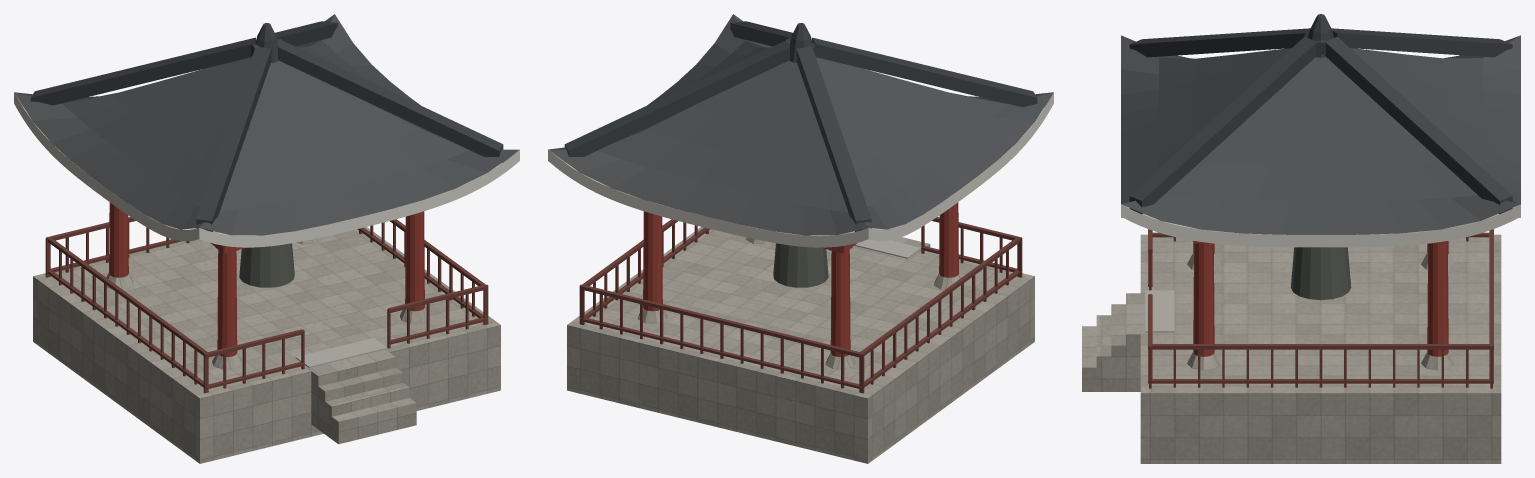
3 renders of one model, left to right at view 1: azimuth 30°, elevation 25°; view 2: azimuth 150°, elevation 25°; view 3: azimuth 270°, elevation 25°, orthographic. The views are drawn at different scales.
Visible parts, largest first — view 1: bell__granite_base, bell__roof_tile, bell__ridge_dark, bell__rail_dark, bell__rafter_paint, bell__column_red, bell__bell_bronze, bell__entrance_threshold; view 2: bell__granite_base, bell__roof_tile, bell__ridge_dark, bell__rail_dark, bell__rafter_paint, bell__column_red, bell__bell_bronze, bell__entrance_threshold; view 3: bell__granite_base, bell__roof_tile, bell__ridge_dark, bell__rail_dark, bell__rafter_paint, bell__column_red, bell__bell_bronze, bell__entrance_threshold.
Boxes of the visible parts, x1,y1,x2,y2 form: bell__granite_base: (33, 227, 500, 463); bell__roof_tile: (14, 14, 518, 235); bell__ridge_dark: (30, 21, 503, 231); bell__rail_dark: (45, 217, 488, 393); bell__rafter_paint: (14, 92, 519, 247); bell__column_red: (109, 202, 424, 356); bell__bell_bronze: (239, 243, 294, 287); bell__entrance_threshold: (295, 338, 387, 367); bell__granite_base: (567, 227, 1034, 463); bell__roof_tile: (548, 14, 1053, 235); bell__ridge_dark: (564, 21, 1037, 231); bell__rail_dark: (579, 217, 1022, 393); bell__rafter_paint: (548, 92, 1053, 247); bell__column_red: (643, 202, 958, 356); bell__bell_bronze: (773, 243, 828, 287); bell__entrance_threshold: (854, 239, 921, 258); bell__granite_base: (1082, 234, 1501, 463); bell__roof_tile: (1121, 35, 1520, 234); bell__ridge_dark: (1129, 14, 1512, 214); bell__rail_dark: (1148, 229, 1493, 388); bell__rafter_paint: (1121, 204, 1520, 247); bell__column_red: (1193, 241, 1448, 356); bell__bell_bronze: (1290, 247, 1351, 300); bell__entrance_threshold: (1145, 290, 1174, 332).
Size of the model in its own units: 8.2 by 8.35 by 9.
Materials: 8 (1 with a texture image).
